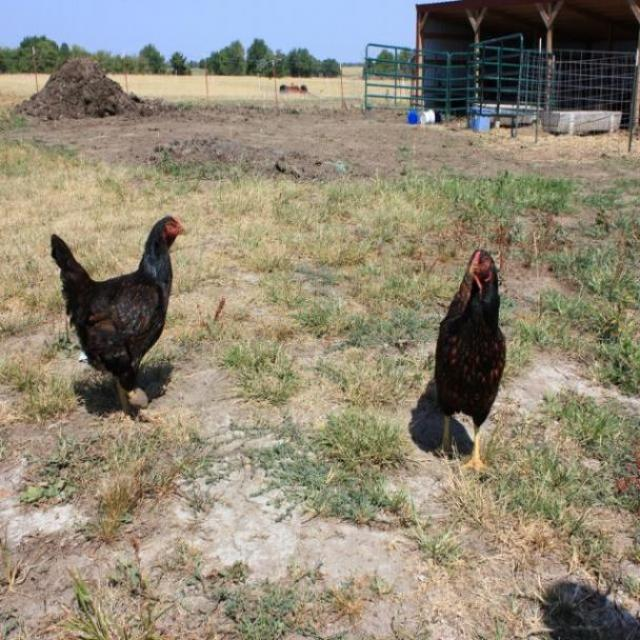Chicken: (47, 202, 183, 418), (433, 247, 505, 484)
